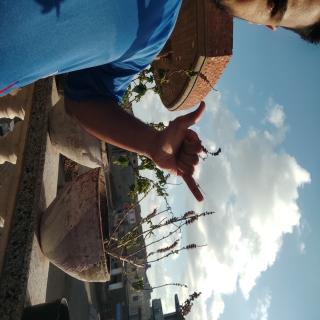YA: (70, 135, 156, 229)
